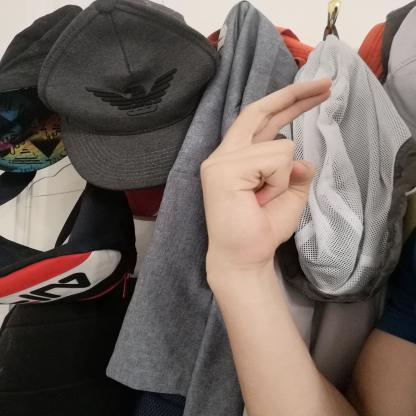ZAY: (193, 70, 344, 286)
